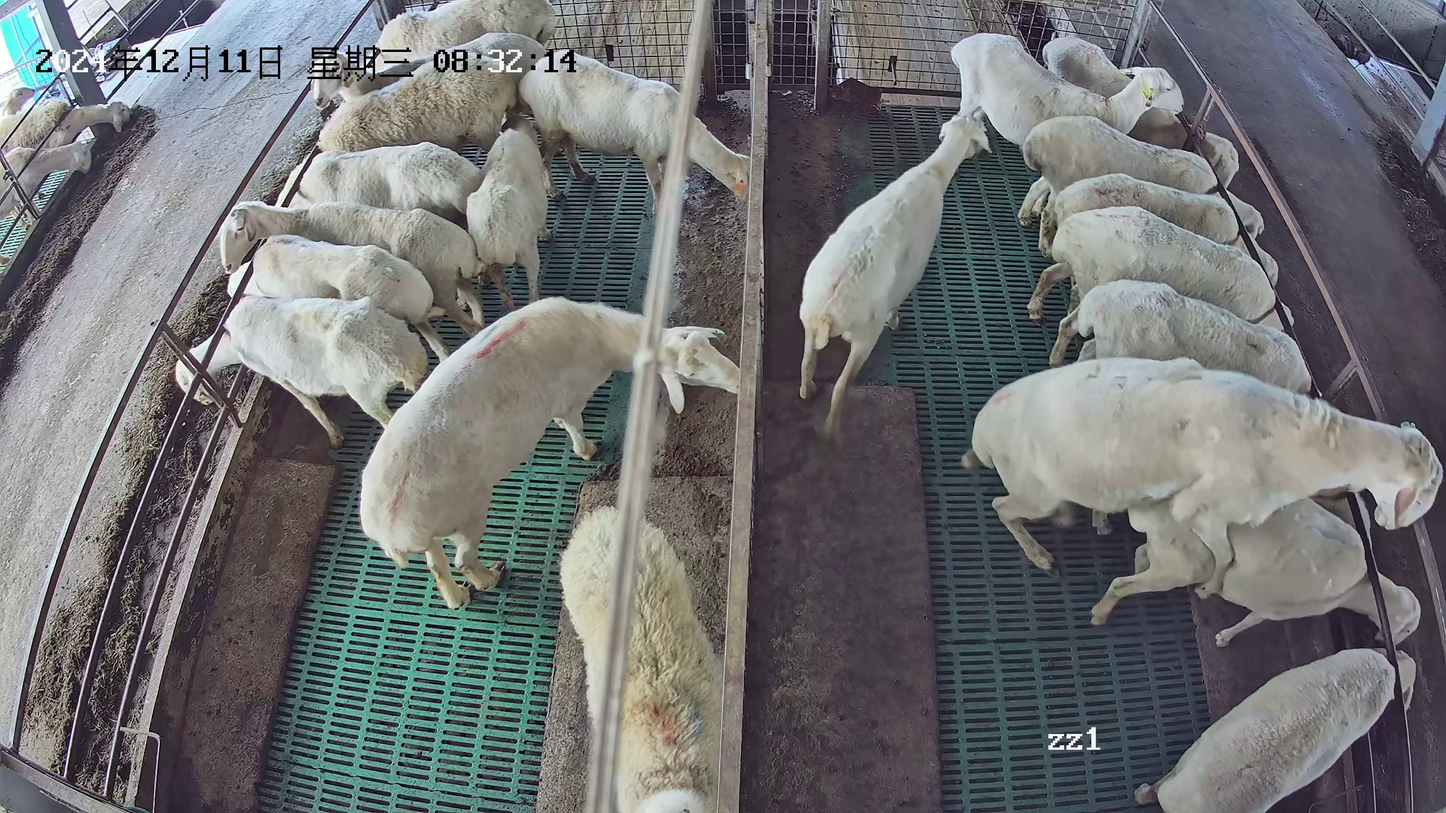Smounting: (960, 354, 1443, 650)
mounted: (1089, 491, 1423, 648)
